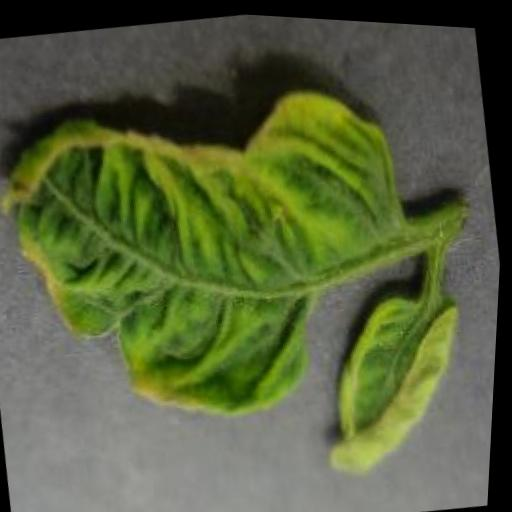Yellow Leaf Curl Virus: (0, 52, 439, 453), (308, 274, 487, 475)
